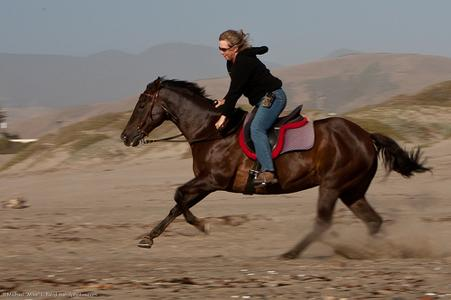person: (214, 29, 287, 188)
